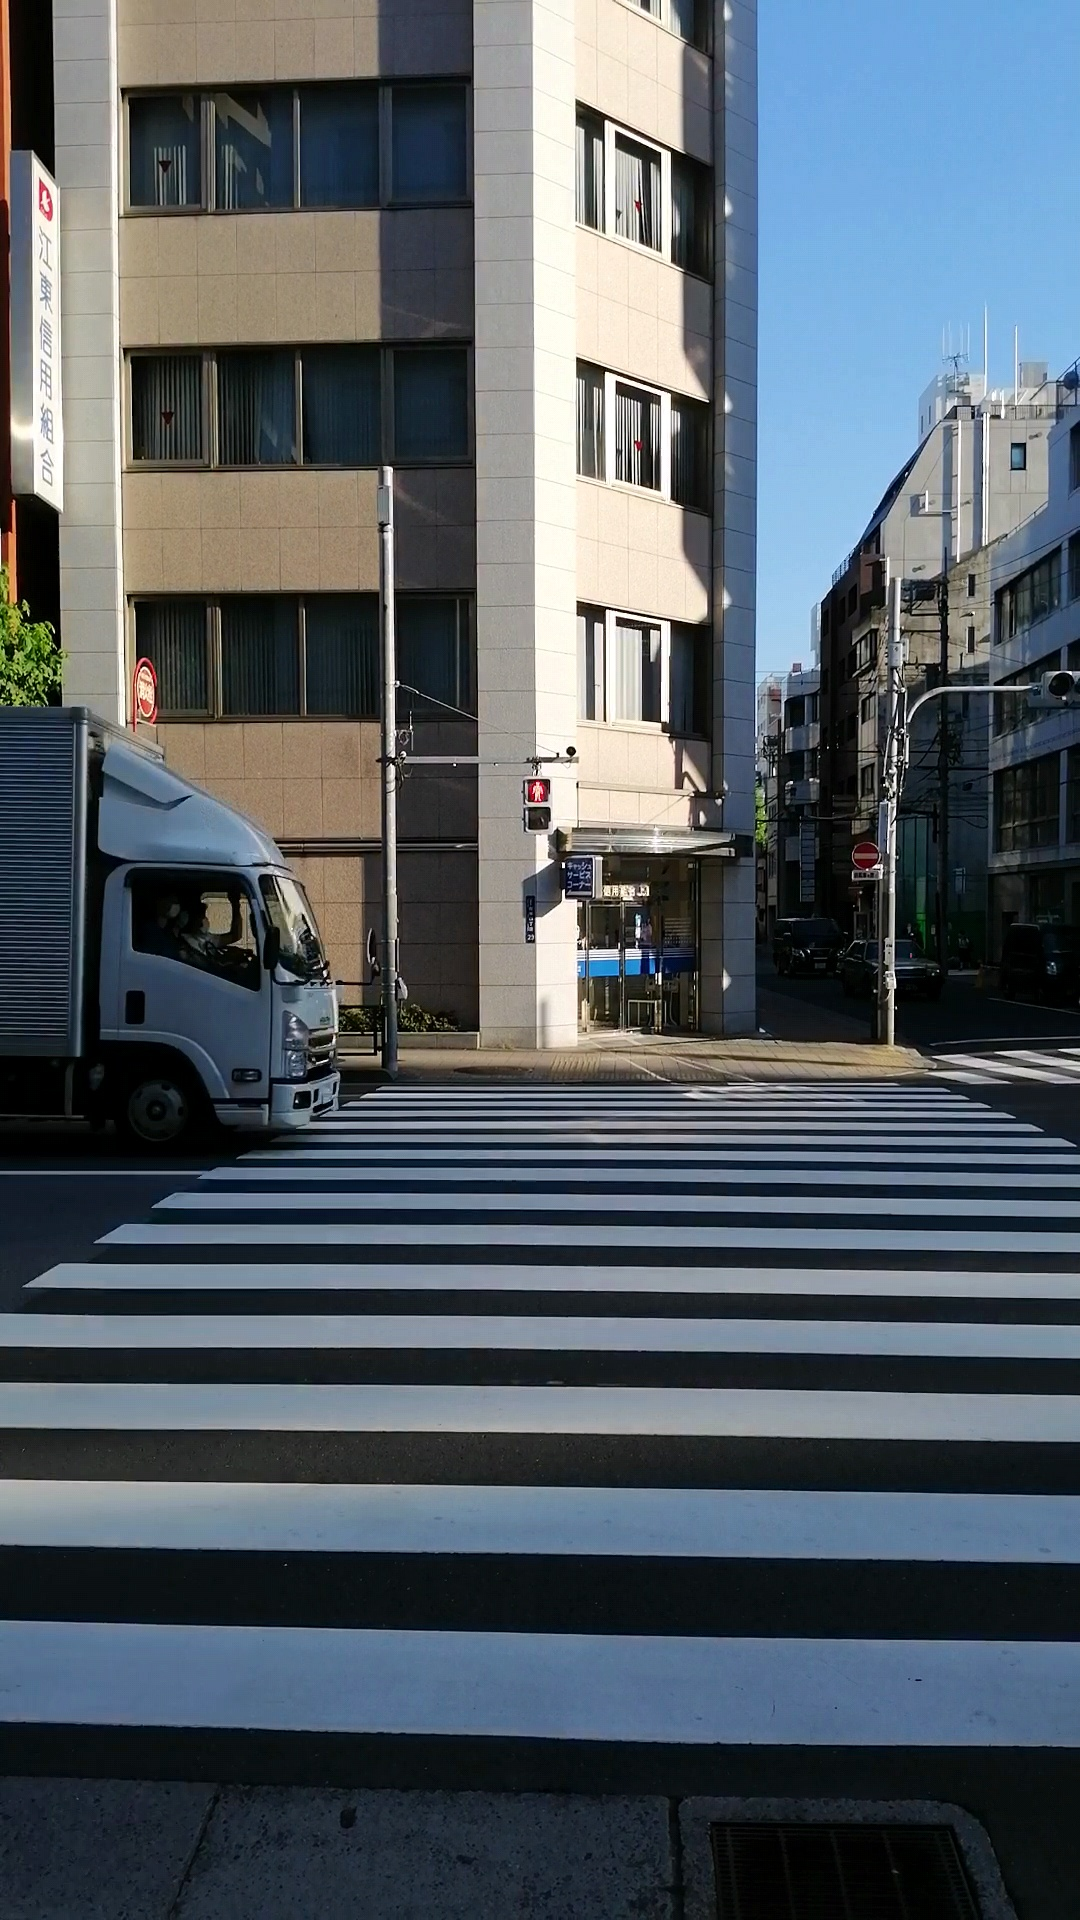red: (521, 773, 555, 833)
